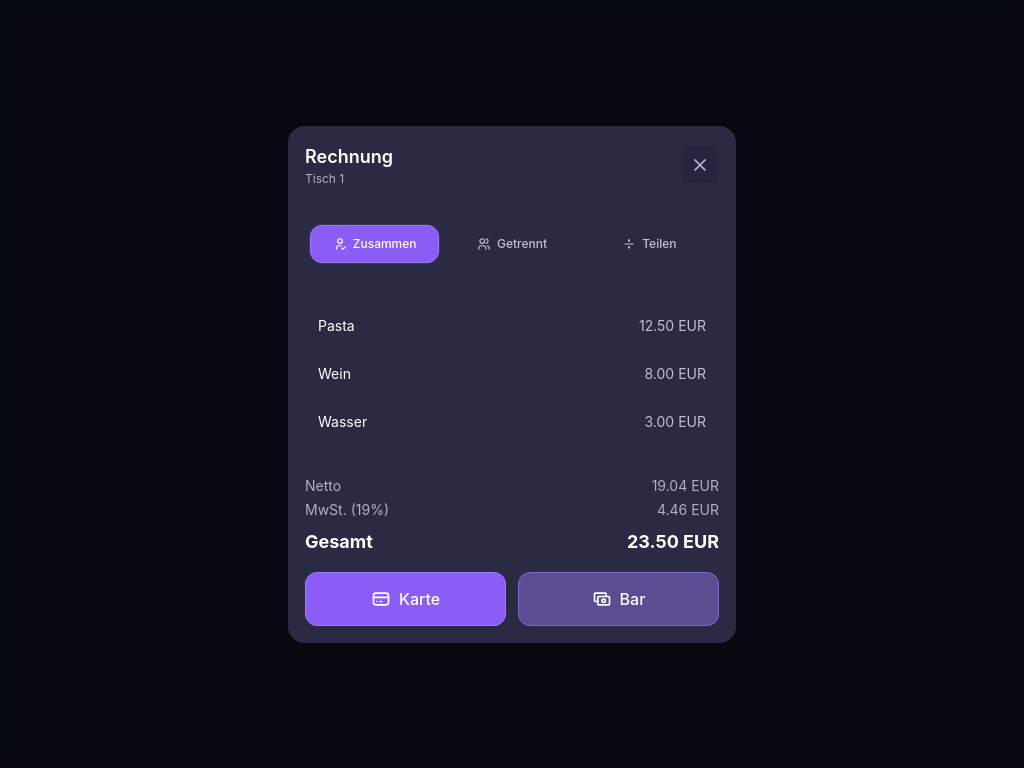
Test: Scenario 3 — Guest-split billing (per-seat, mixed payment) › switching to Getrennt mode shows Gast 1 and Gast 2 sections
Expected: the text "23.50 EUR" is shown, left=627, top=528, right=719, bottom=556
Click the button "Getrennt" at (512, 244), box left=447, top=224, right=577, bottom=262
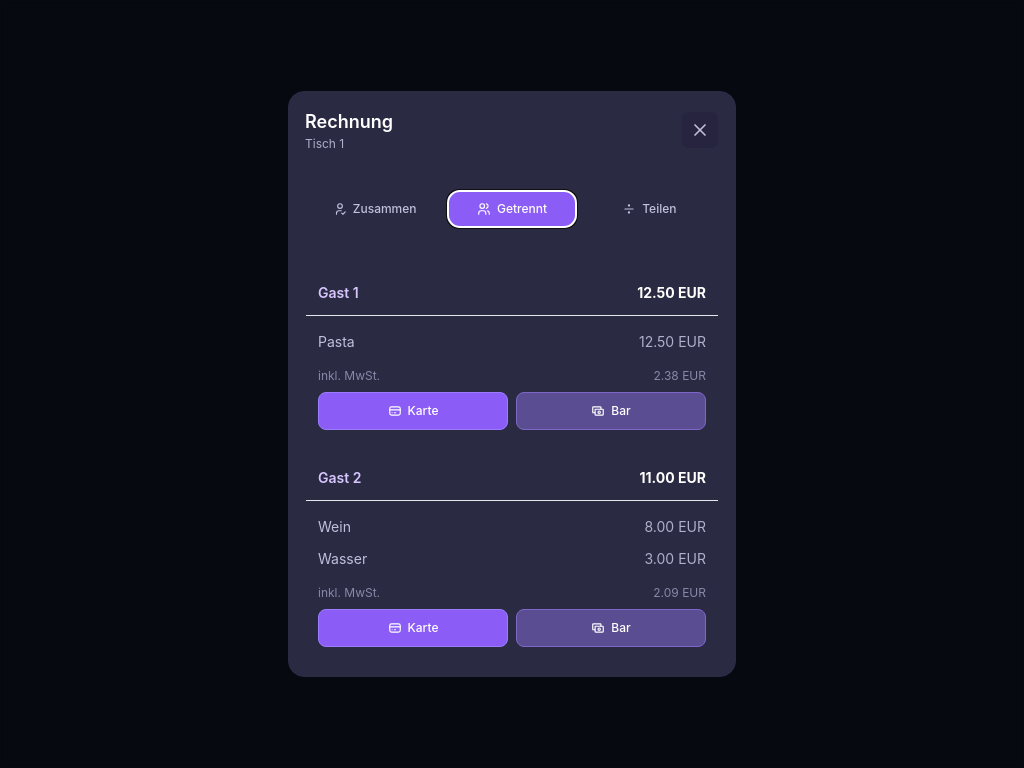
Now the text "Gast 1" is shown, box left=318, top=283, right=359, bottom=303
Now the text "Gast 2" is shown, box left=318, top=468, right=361, bottom=488
